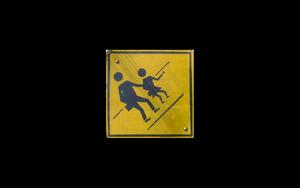School Ahead: (104, 42, 196, 140)
